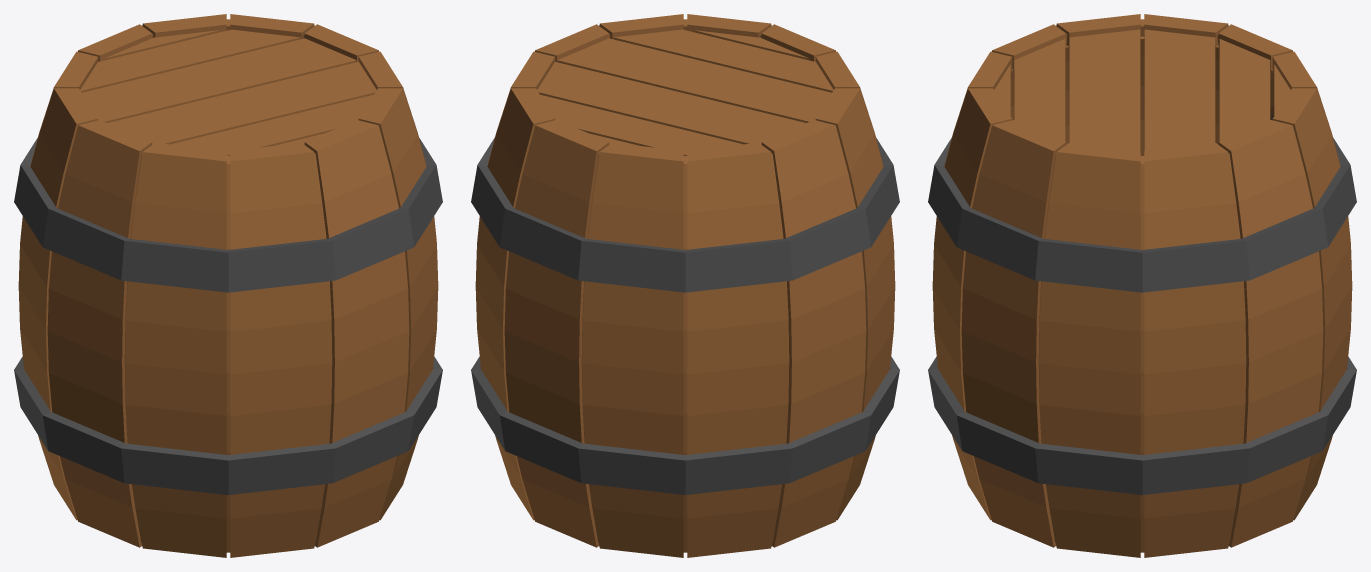
Rendered from Taru.fbx.
3 views of the same model, side by side, from view 1: azimuth 30°, elevation 25°; view 2: azimuth 150°, elevation 25°; view 3: azimuth 270°, elevation 25° (orthographic).
Parts seen in each view (by area): view 1: 円柱, 円柱.001, 円柱.002; view 2: 円柱, 円柱.001, 円柱.002; view 3: 円柱, 円柱.001, 円柱.002.
Part boxes in pixels (x1,y1,x2,y2): 円柱: (18, 14, 438, 557); 円柱.001: (14, 138, 442, 494); 円柱.002: (80, 29, 376, 155); 円柱: (475, 14, 895, 557); 円柱.001: (471, 138, 899, 494); 円柱.002: (537, 29, 833, 155); 円柱: (932, 14, 1352, 557); 円柱.001: (928, 109, 1356, 494); 円柱.002: (994, 29, 1290, 150).
Bounding box in the file's own units: 245 × 250 × 245.
